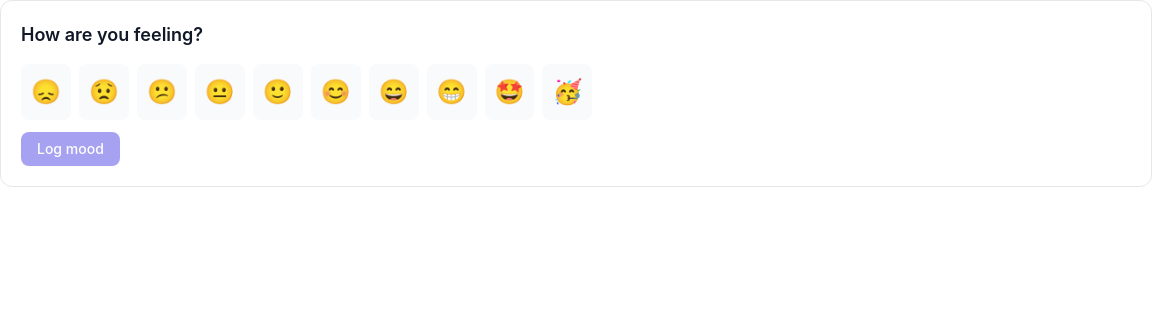
Scenario: MoodEntryWidget › shows error message on submission failure
Click the button with class "emoji-btn" showing "😞".
click(46, 92)  # box x1=21 y1=64 x2=71 y2=120
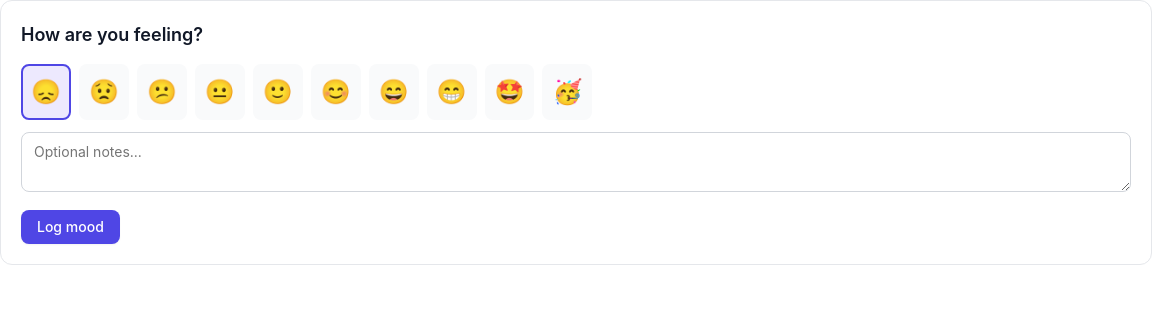
Click the button "Log mood".
click(70, 227)  # box x1=21 y1=210 x2=120 y2=244
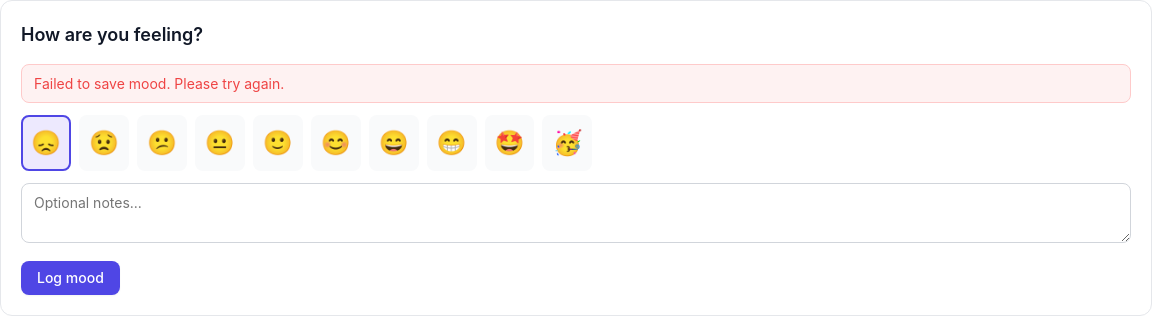
Check: the text "Failed to save mood. Please try again." is shown, box x1=21 y1=64 x2=1131 y2=103
Check: the text with class "error-msg" reads "Failed to save mood. Please try again.", box x1=34 y1=75 x2=284 y2=92
